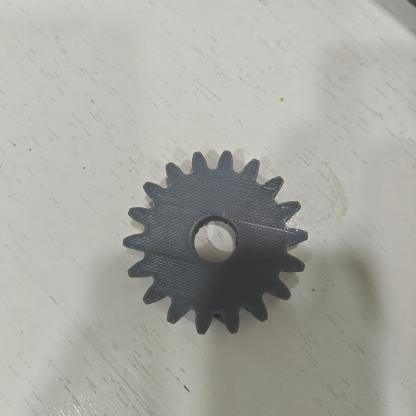gear: (109, 144, 332, 348)
